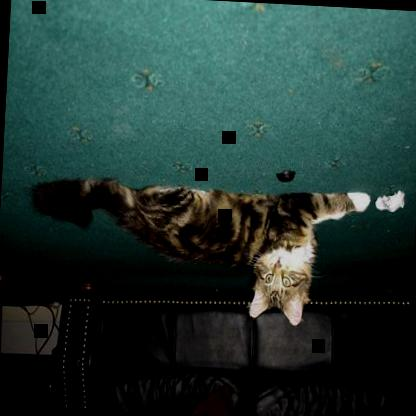cat: (27, 174, 370, 330)
